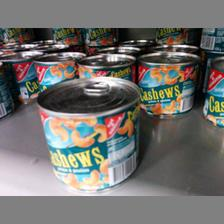Nuss: (36, 75, 142, 191), (137, 50, 197, 118), (199, 57, 223, 126)
